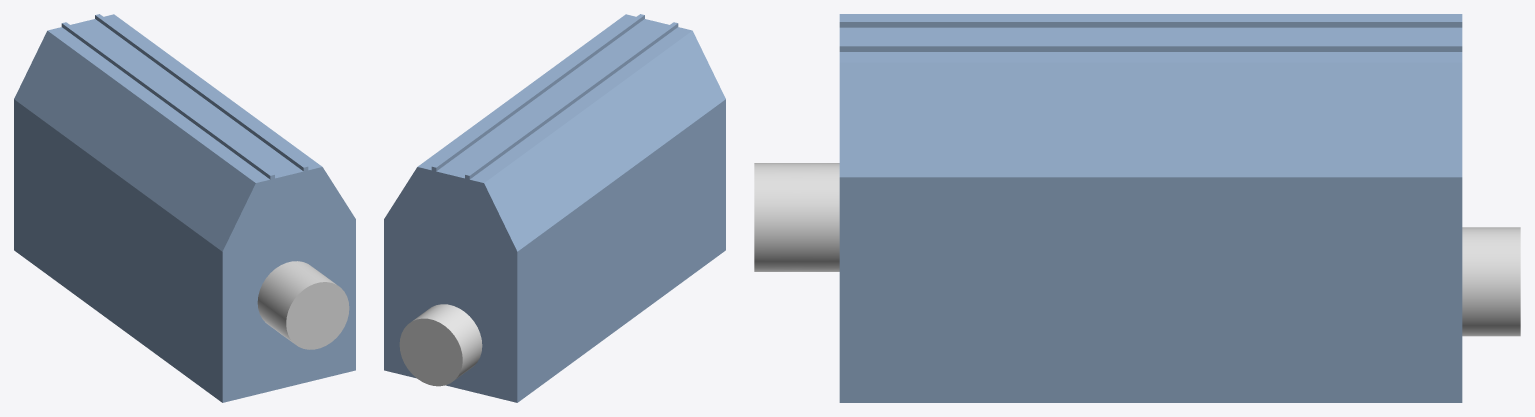
Rendered from precision-filter.gltf.
3 renders of one model, left to right at view 1: azimuth 30°, elevation 25°; view 2: azimuth 150°, elevation 25°; view 3: azimuth 270°, elevation 25°, orthographic. The views are drawn at different scales.
Visible parts, largest first — view 1: 拉伸 [299473], 拉伸 [299508]; view 2: 拉伸 [299473], 拉伸 [299512]; view 3: 拉伸 [299473], 拉伸 [299508], 拉伸 [299512].
Boxes of the visible parts, x1,y1,x2,y2 form: 拉伸 [299473]: (14,14,355,402); 拉伸 [299508]: (257,261,349,349); 拉伸 [299473]: (384,14,725,402); 拉伸 [299512]: (399,304,482,386); 拉伸 [299473]: (839,14,1462,402); 拉伸 [299508]: (754,163,839,271); 拉伸 [299512]: (1462,227,1520,336).
Bounding box in the file's own units: 1.48 × 2.28 × 4.92.
